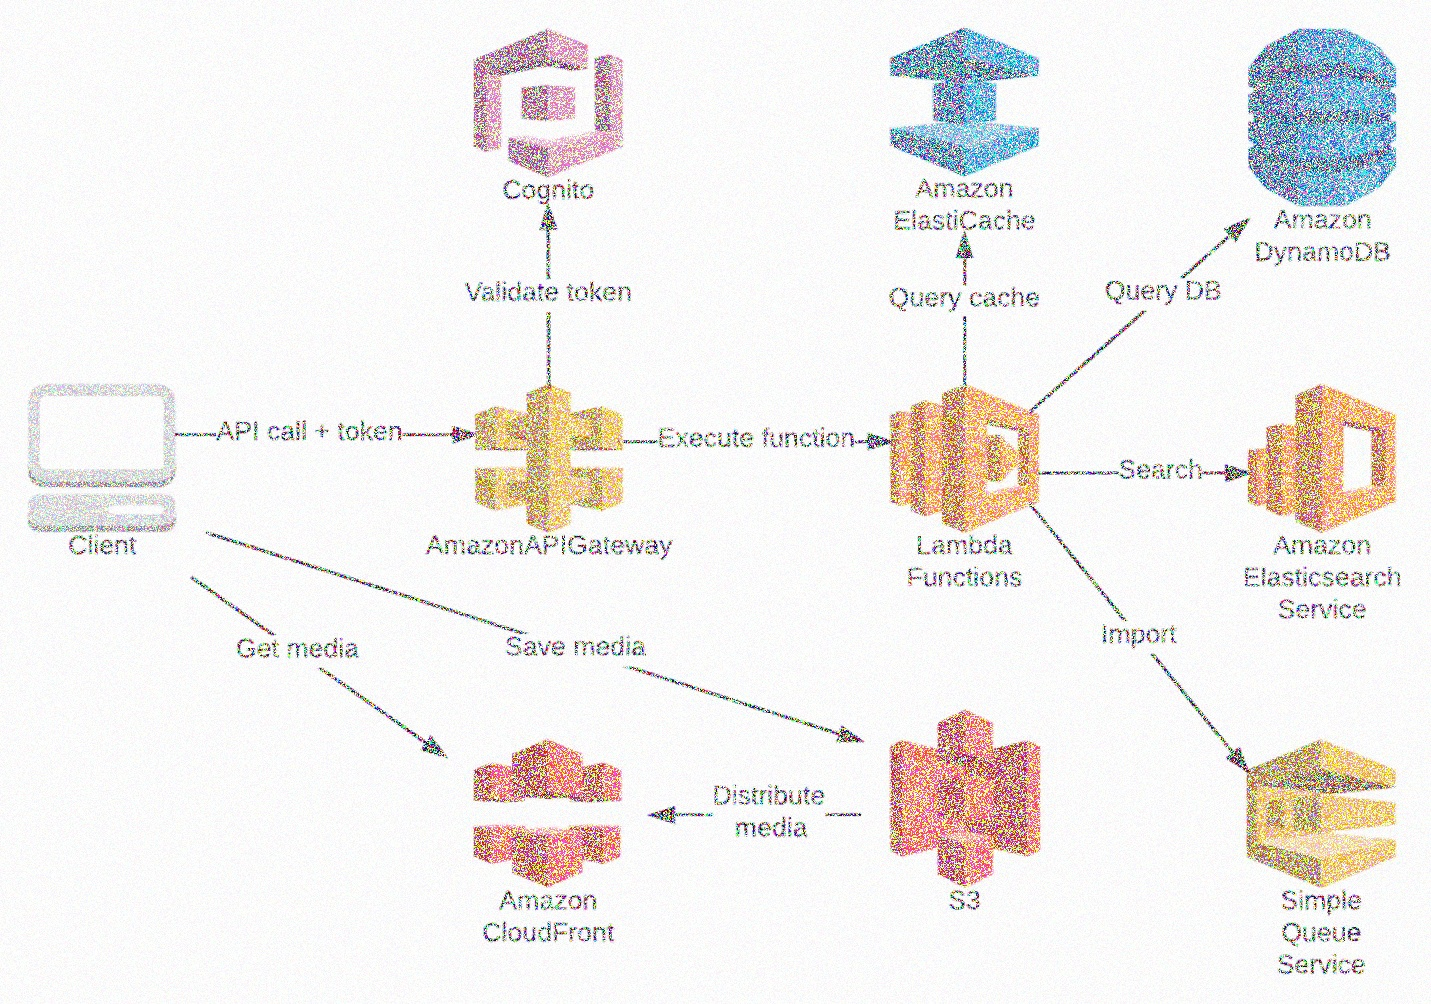API-Gateway: (466, 384, 634, 534)
Cloudfront: (466, 729, 630, 892)
Cognito: (458, 24, 644, 181)
Dynamo DB: (1238, 14, 1404, 209)
ElastiCache: (886, 14, 1045, 179)
Elastic Search: (1241, 369, 1412, 534)
Lambda: (883, 377, 1055, 539)
S3: (878, 694, 1050, 889)
SQS: (1238, 734, 1407, 894)
Web Clients: (21, 372, 194, 541)
